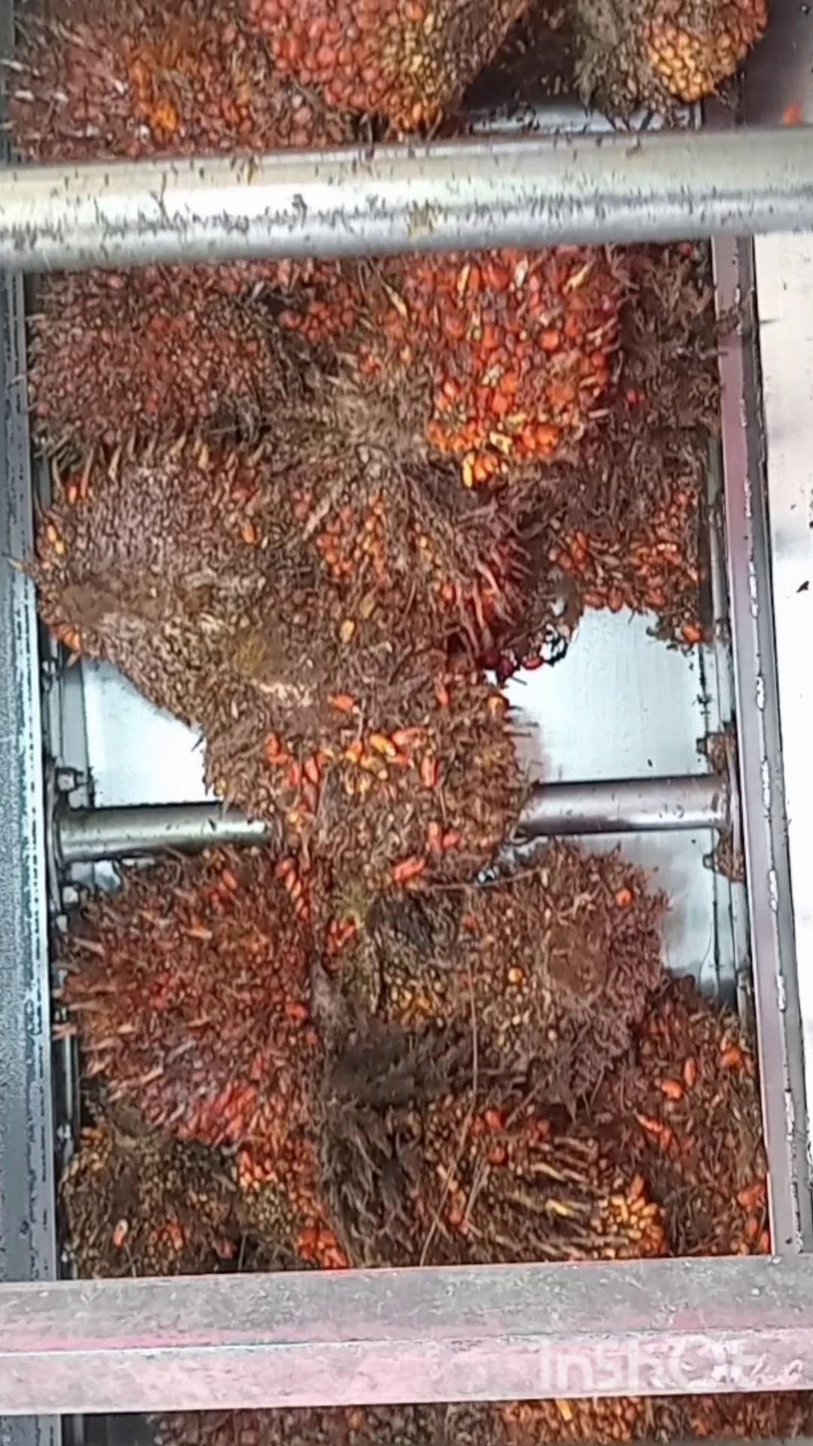Ripe: (196, 598, 552, 901), (28, 442, 340, 722), (51, 862, 351, 1150), (366, 234, 636, 478), (442, 837, 676, 1112), (26, 275, 303, 458), (593, 989, 768, 1253), (53, 1117, 348, 1272), (402, 1102, 661, 1264), (235, 0, 524, 139), (304, 465, 544, 632), (552, 365, 712, 609), (587, 0, 774, 103)
